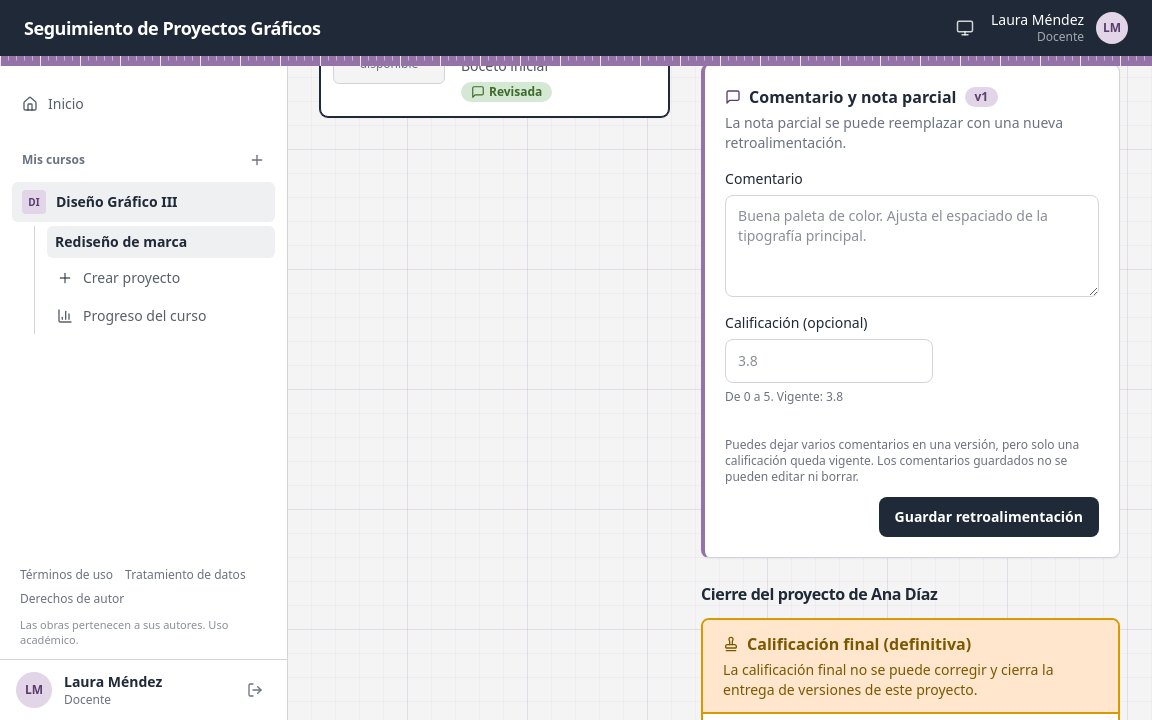
it: Calificaciones › avisa que la calificación vigente se va a reemplazar
(page scrolled)
Expected: the text "la nueva calificación la reemplaza" is not shown
Type "4.5" into the number field labelled "Calificación (opcional)" at (829, 360), box [725, 338, 933, 382]
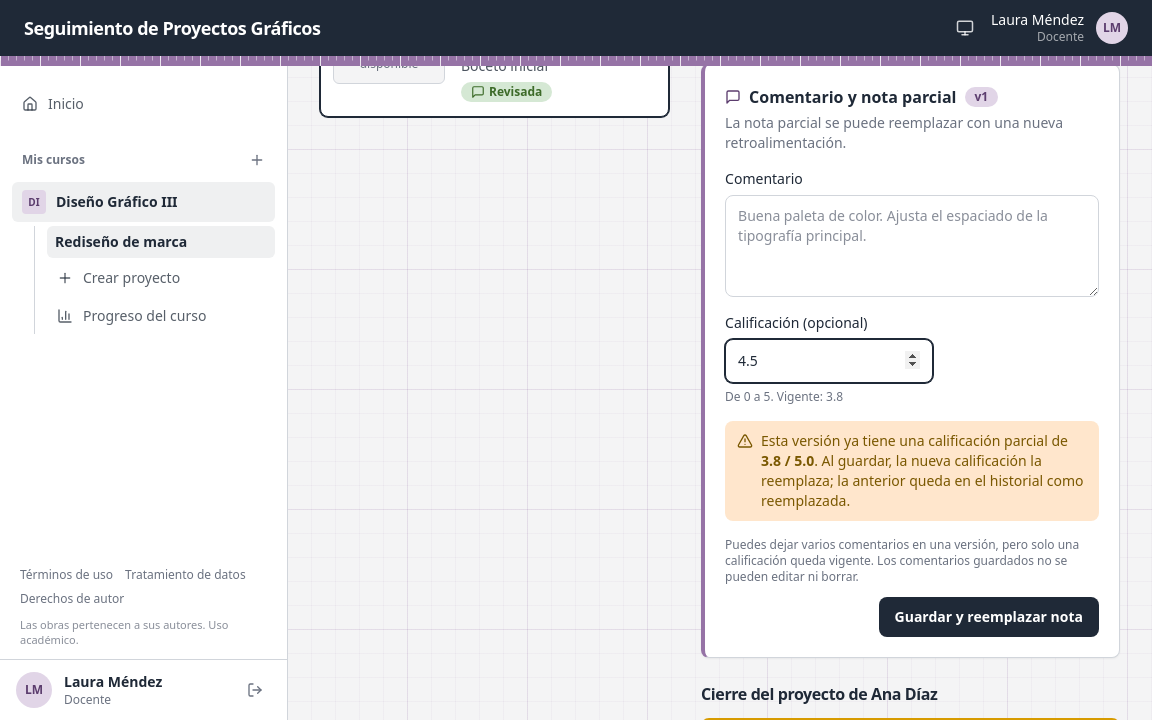
Expected: the text "la nueva calificación la reemplaza" is shown, [761, 450, 1084, 510]
Expected: the button "Guardar y reemplazar nota" is shown, [879, 596, 1099, 636]
